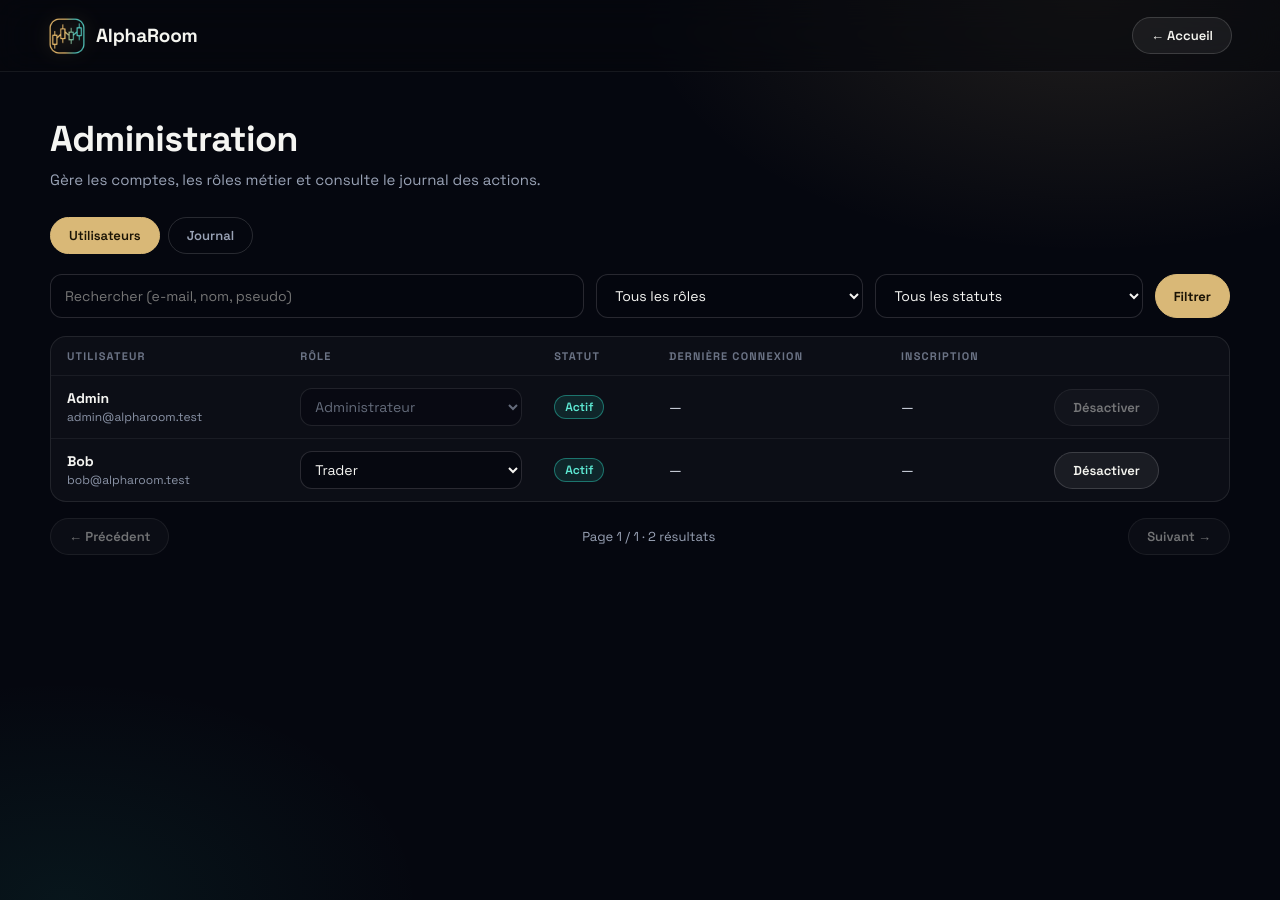
Test: AdminUsersPage › change le rôle et désactive un compte
Expected: the text "bob@alpharoom.test" is shown, [67,472,190,488]
Select "Analyste" in the dropdown named "Rôle de bob@alpharoom.test": (411, 470) [300,451,522,489]
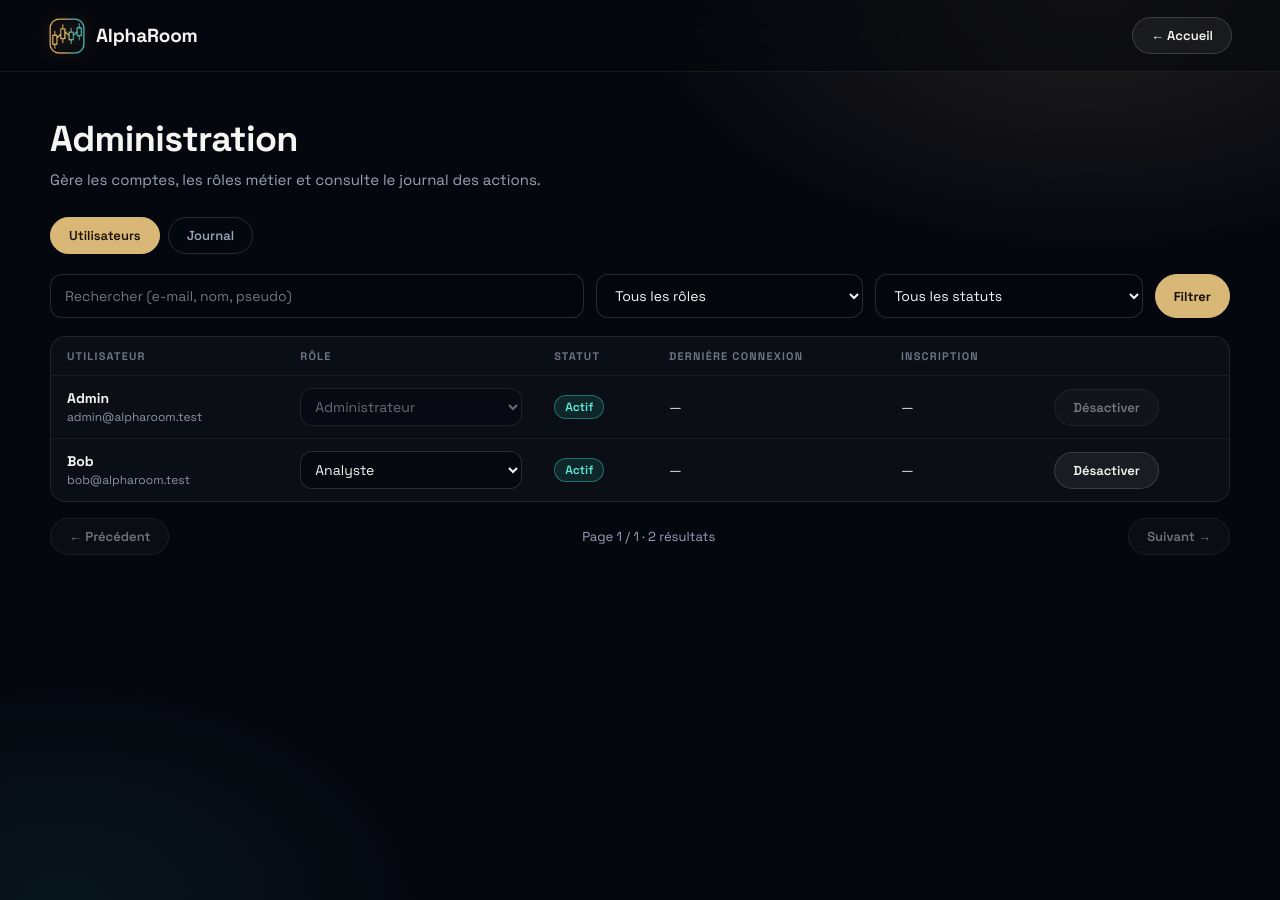
Click the button "Désactiver" in the row of "bob@alpharoom.test": (1107, 470) [1054,452,1159,488]
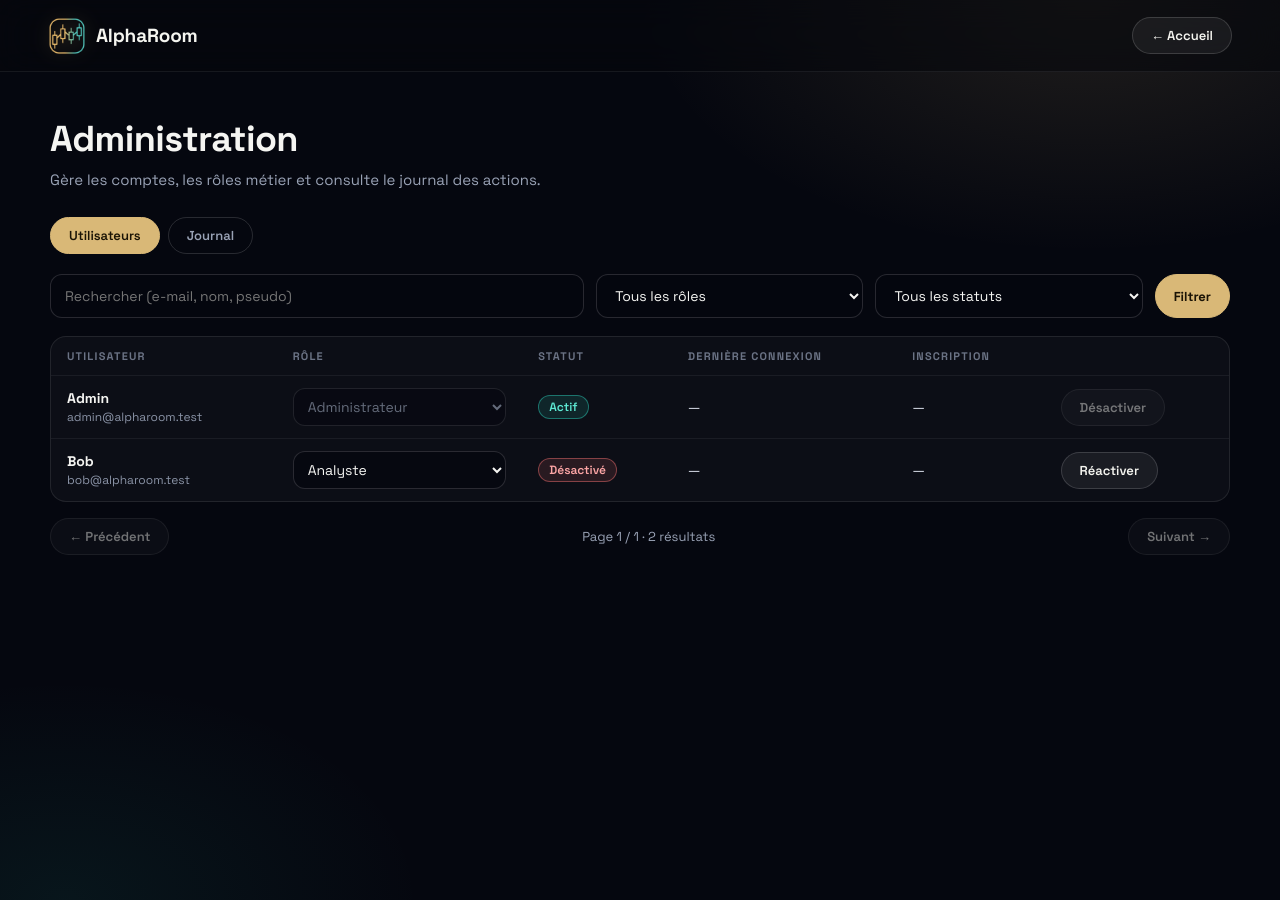
Expected: the text "Désactivé" is shown, [538,458,617,482]
